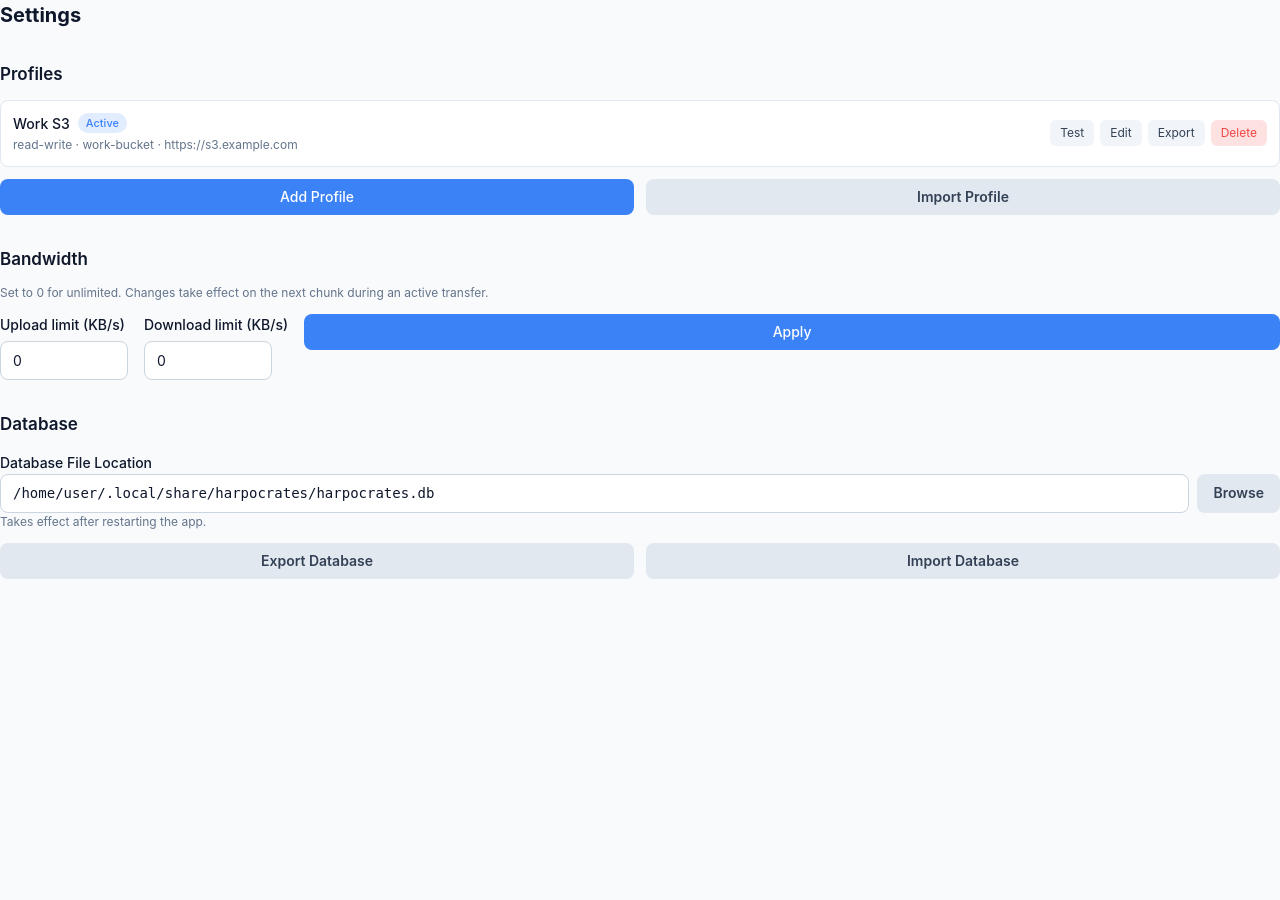
Test: Settings page — add / edit modals › clicking "Edit" fetches credentials and opens the modal with "Edit Profile" heading
This screenshot has width=1280, height=900.
Expected: the text "Work S3" is shown, [13, 114, 70, 132]
What coordinates should you click on to do the following:
click the button "Edit"
I would click on:
 (1121, 133)
Its box is [1100, 120, 1142, 146].
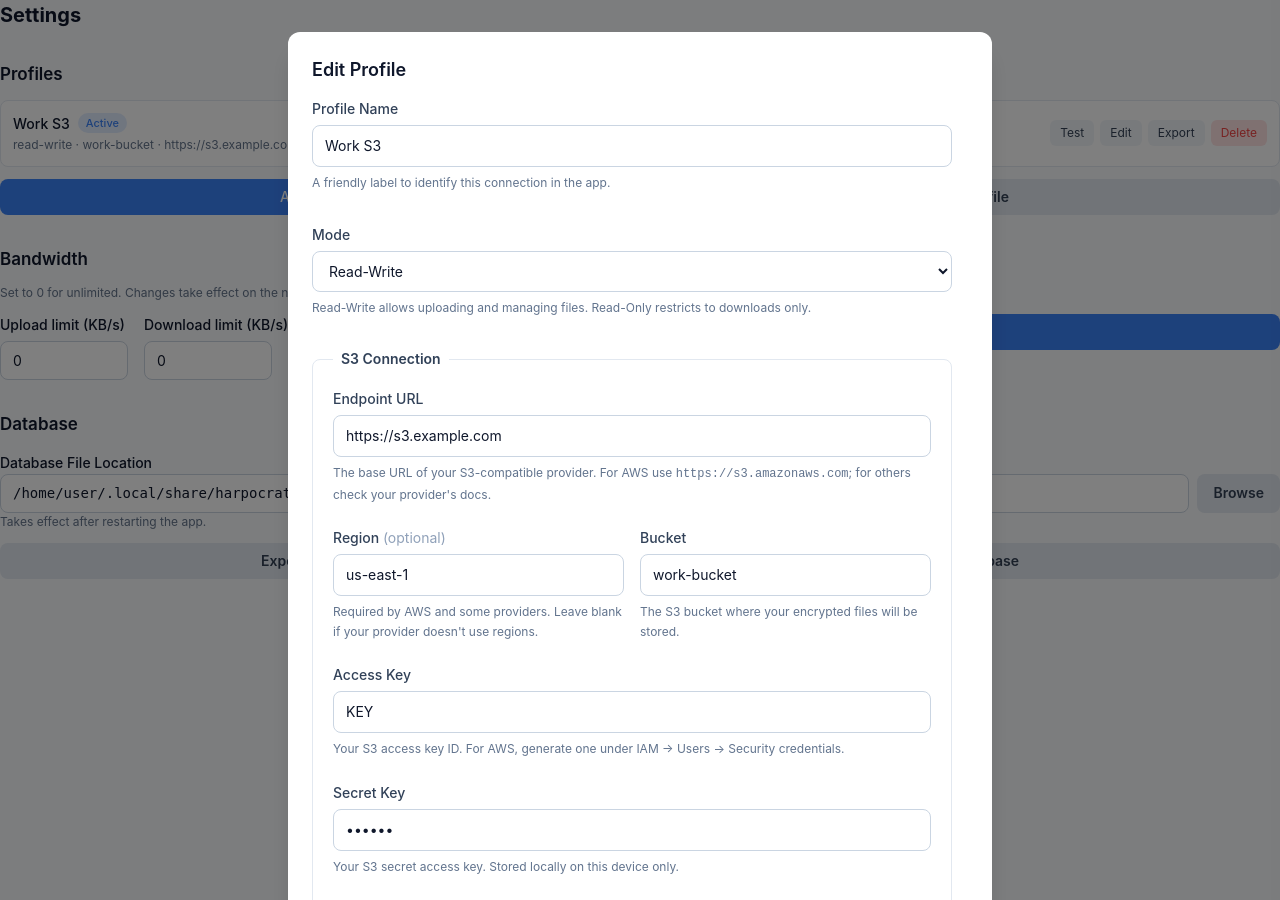
Expected: the heading "Edit Profile" is shown, [312, 59, 406, 80]
